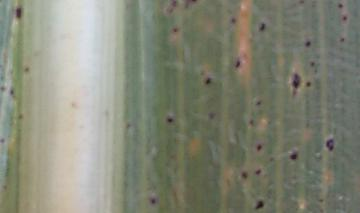tarspot: (289, 70, 302, 98), (164, 1, 179, 16), (324, 136, 335, 150), (182, 1, 196, 12), (288, 150, 299, 163), (14, 5, 22, 22), (254, 199, 265, 211), (257, 20, 267, 33), (232, 56, 241, 70), (205, 110, 215, 122), (148, 195, 158, 206), (239, 170, 248, 182), (8, 87, 16, 100), (170, 25, 179, 35), (303, 39, 313, 48), (335, 1, 345, 10), (123, 121, 133, 130), (255, 142, 263, 153), (204, 75, 212, 86), (336, 36, 347, 44), (253, 167, 262, 175), (165, 115, 173, 124), (254, 98, 262, 107), (247, 117, 254, 127), (340, 14, 348, 22), (1, 184, 9, 192), (17, 112, 25, 120), (22, 66, 31, 73), (308, 59, 315, 68), (229, 16, 236, 25), (268, 155, 275, 164), (305, 80, 312, 88), (1, 84, 6, 95), (316, 197, 325, 203), (297, 1, 304, 6), (1, 136, 6, 143)
